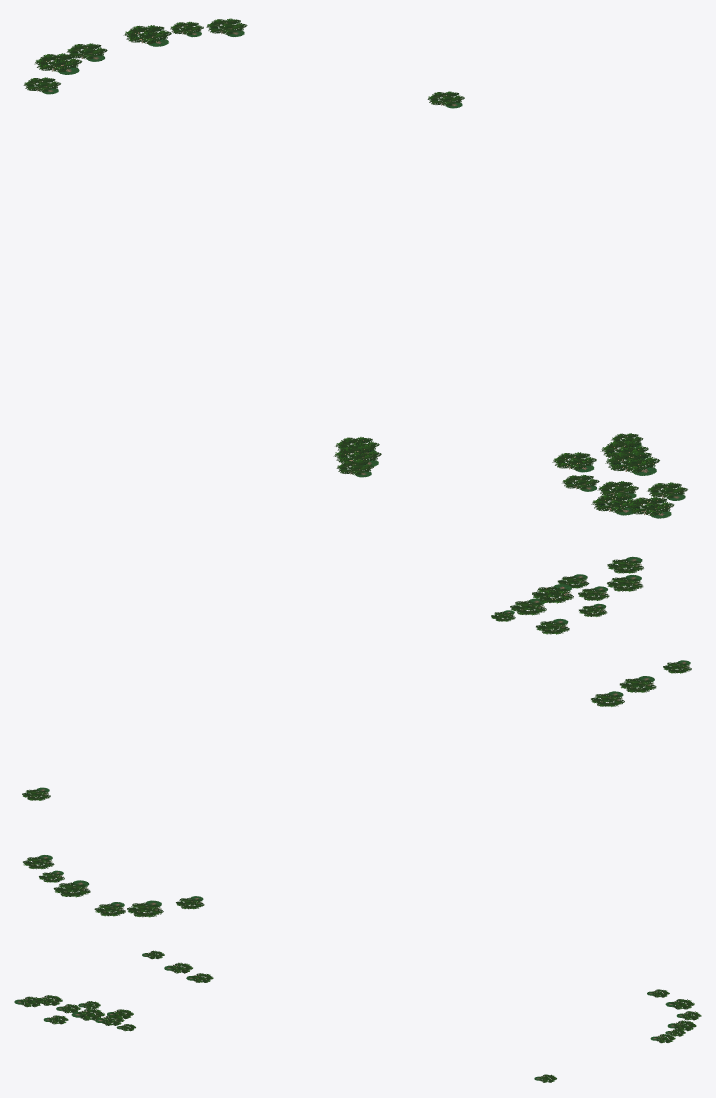
The model's file is glf_map_fc13__glf_tree_fc13.glb.
3 renders of one model, top to bottom at view 1: azimuth 30°, elevation 25°; view 2: azimuth 150°, elevation 25°; view 3: azimuth 270°, elevation 25°, orthographic. The views are drawn at different scales.
Parts seen in each view (by area): view 1: polygon0; view 2: polygon0; view 3: polygon0.
Part boxes in pixels (x1,y1,x2,y2): polygon0: [23, 18, 687, 518]; polygon0: [22, 556, 691, 917]; polygon0: [14, 950, 701, 1082].
Bounding box in the file's own units: 2278 × 148 × 5106.
1 material, 1 textured.
